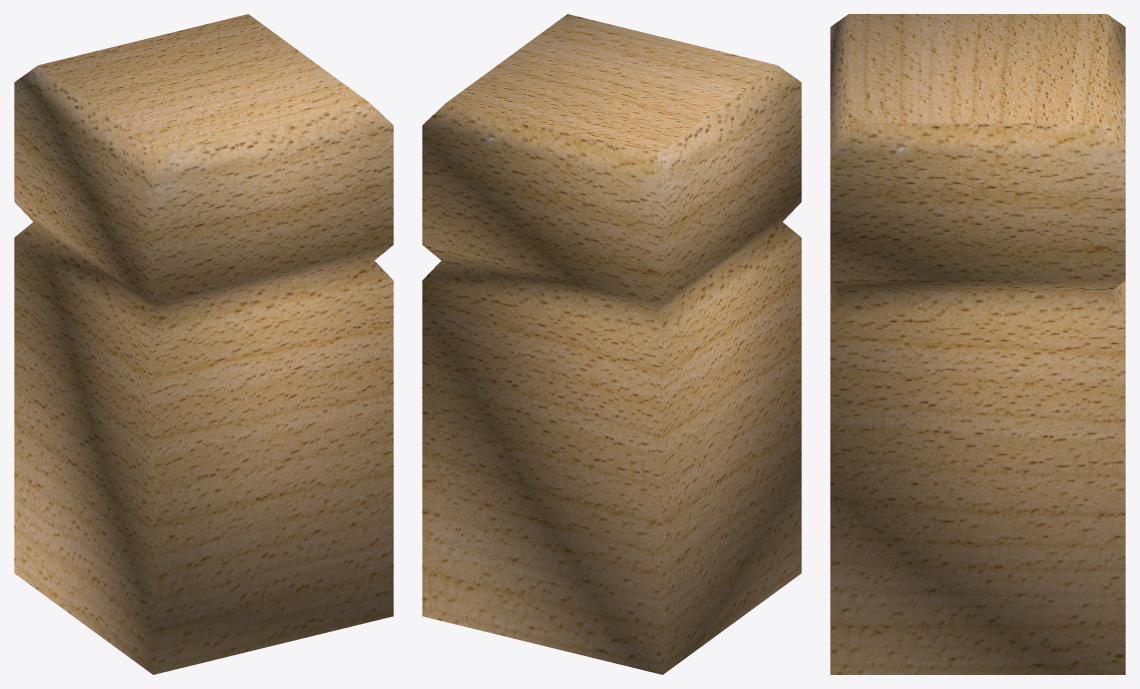
File: Koma_B_S_C1.fbx
3 renders of one model, left to right at view 1: azimuth 30°, elevation 25°; view 2: azimuth 150°, elevation 25°; view 3: azimuth 270°, elevation 25°, orthographic. The views are drawn at different scales.
Visible parts, largest first — view 1: Koma_B_S_C1; view 2: Koma_B_S_C1; view 3: Koma_B_S_C1.
Part boxes in pixels (x1,y1,x2,y2): Koma_B_S_C1: [14, 14, 393, 674]; Koma_B_S_C1: [422, 14, 801, 674]; Koma_B_S_C1: [830, 14, 1125, 674].
Bounding box in the file's own units: 1.28 × 2.6 × 1.28.
Materials: 1 (1 with a texture image).
